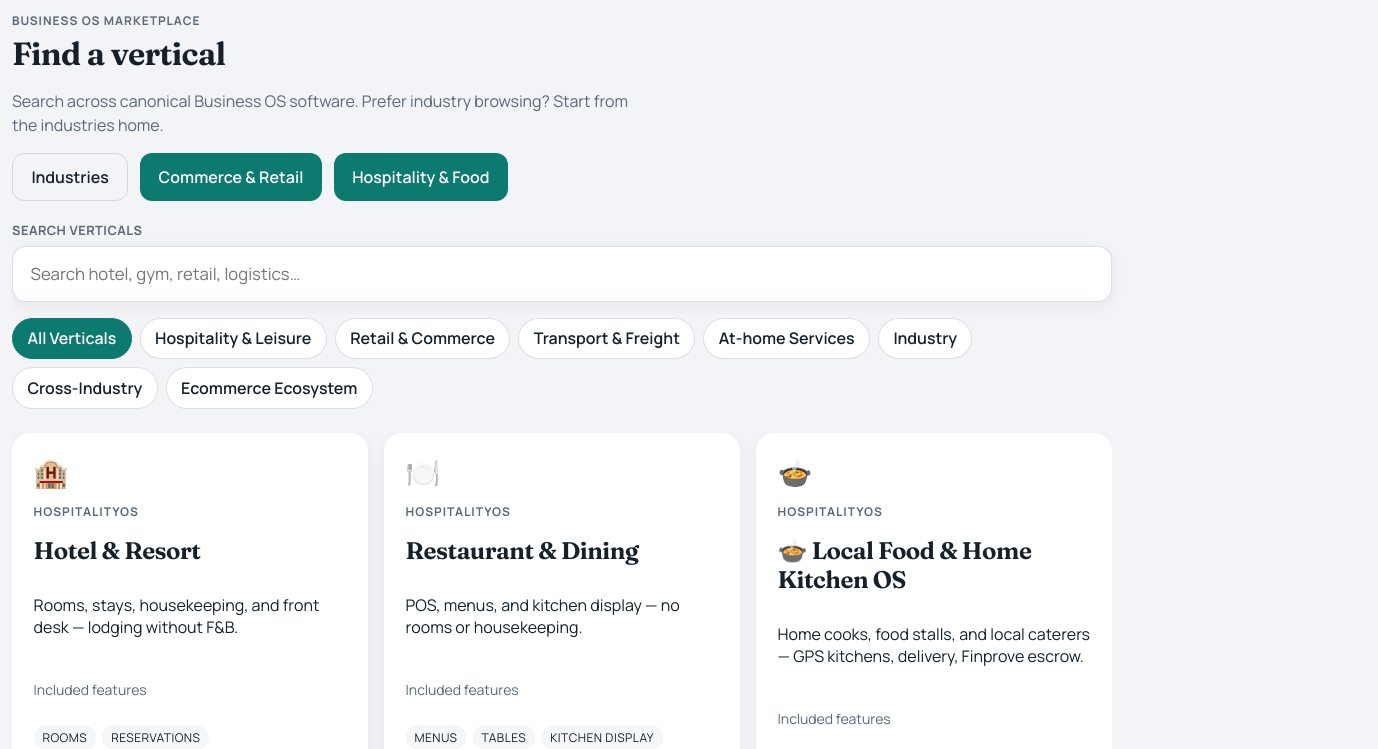
Test: marketplace search › typing "gym" filters the grid down to Gym & Fitness Center
The width and height of the screenshot is (1378, 749).
Type "gym" into the search field labelled "Search verticals" at (562, 274), box [12, 246, 1112, 302]
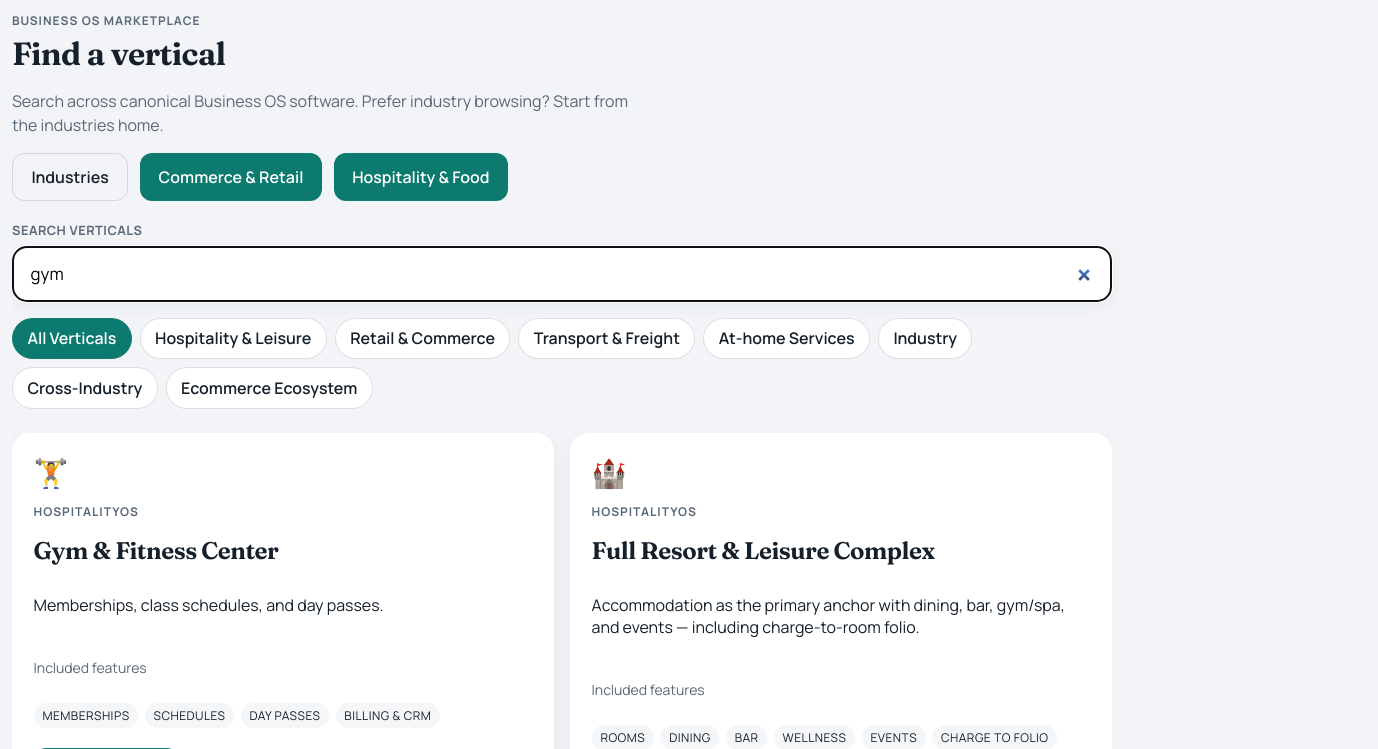
expect the heading "Gym & Fitness Center" is shown: met, box [34, 536, 278, 565]
expect the heading "Hotel & Resort" no longer shows "Hotel & Resort": met
